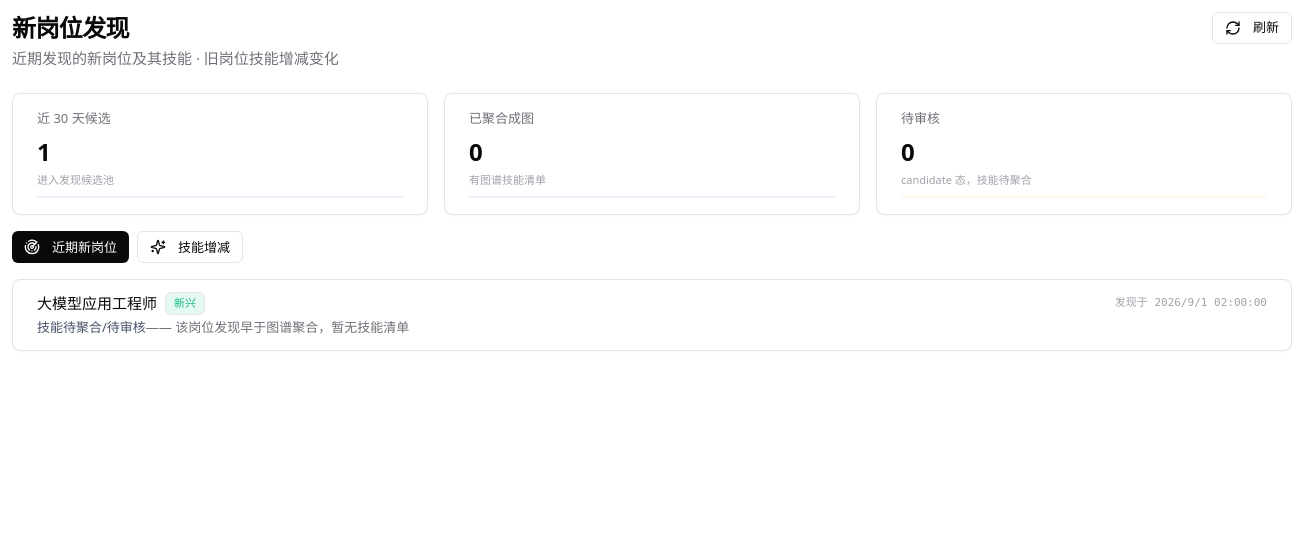
Test: DiscoveryPage › 展开候选 → 渲染五字段结构化定义（职责/场景）
Click the text "大模型应用工程师": coordinates (97, 304) [37,293,157,314]
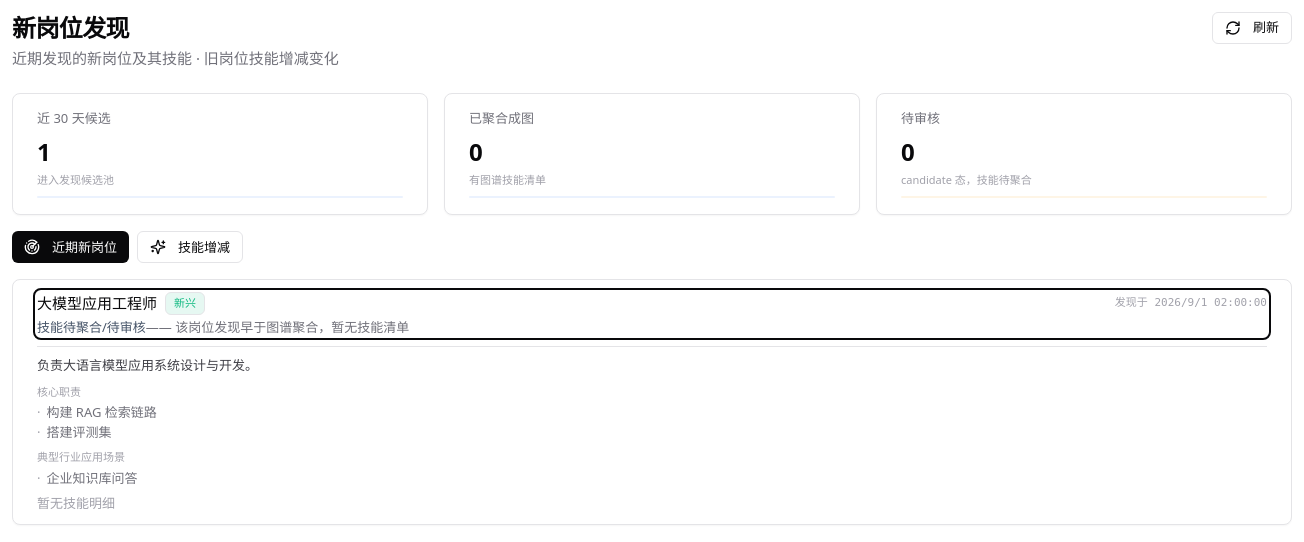
Expected: the text "核心职责" is shown, [37,384,81,399]
Expected: the text "构建 RAG 检索链路" is shown, [46,404,157,422]
Expected: the text "典型行业应用场景" is shown, [37,449,125,464]
